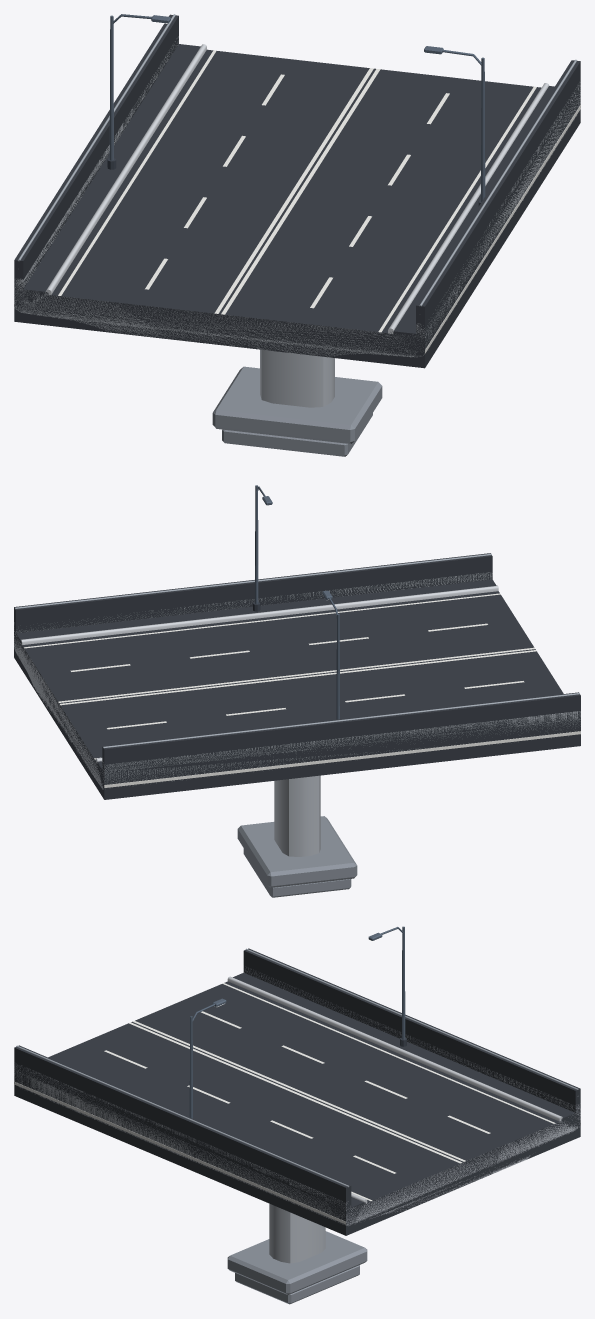
Rendered from ponte_diagonal_tabuleiro_avenida.glb.
The picture shows the model from 3 angles, top to bottom: view 1: azimuth 30°, elevation 25°; view 2: azimuth 150°, elevation 25°; view 3: azimuth 270°, elevation 25°; orthographic projection. The views are drawn at different scales.
Visible parts, largest first — view 1: colisao_tabuleiro, ponte_diagonal_tabuleiro_avenida; view 2: colisao_tabuleiro, ponte_diagonal_tabuleiro_avenida; view 3: colisao_tabuleiro, ponte_diagonal_tabuleiro_avenida.
Part boxes in pixels (bbox=[...]): colisao_tabuleiro: bbox=[14, 14, 580, 368]; ponte_diagonal_tabuleiro_avenida: bbox=[14, 14, 580, 456]; colisao_tabuleiro: bbox=[14, 553, 580, 799]; ponte_diagonal_tabuleiro_avenida: bbox=[14, 485, 580, 897]; colisao_tabuleiro: bbox=[14, 948, 580, 1235]; ponte_diagonal_tabuleiro_avenida: bbox=[14, 926, 580, 1304].
Size of the model in its own units: 25.62 by 15.48 by 25.62.
2 materials, 1 textured.
